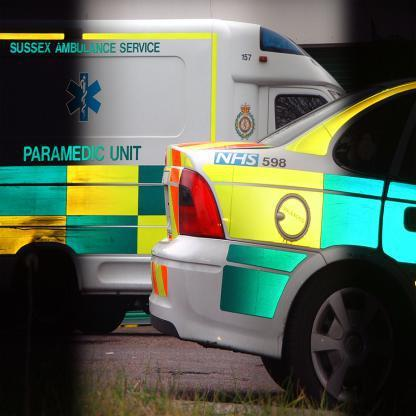Ambulance - v1 Ambulance last generate: (0, 16, 349, 336)
